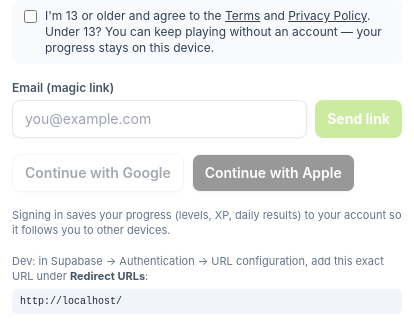
it: <AuthPanel /> age confirmation › keeps every sign-in option disabled until the player confirms they are 13+
Step 1. Type "kid@example.com" into the field labelled "Email (magic link)" → point(160, 119), box [12,100,307,138]
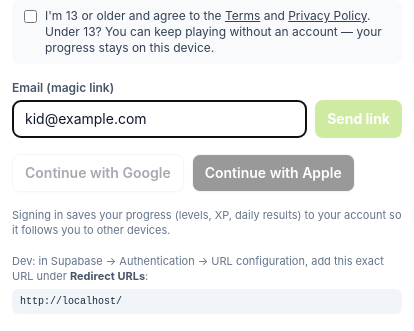
Expected: the button "Send link" is disabled, [315,100,402,138]
Expected: the button "Continue with Google" is disabled, [12,154,184,192]
Step 2. Click the checkbox labelled "13 or older" → point(30, 16), box [24,10,37,23]
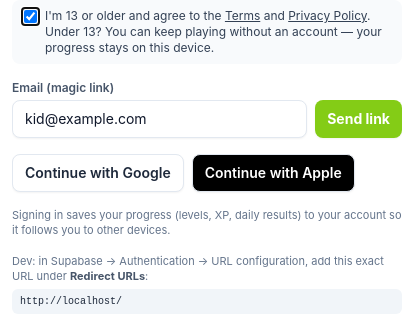
Expected: the button "Send link" is enabled, [315,100,402,138]
Expected: the button "Continue with Google" is enabled, [12,154,184,192]
Expected: the button "Continue with Apple" is enabled, [192,154,355,192]
